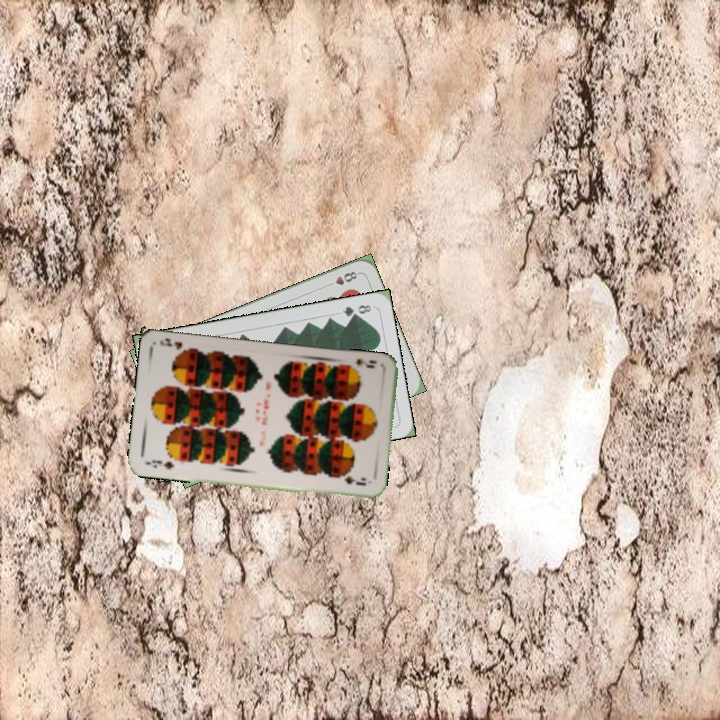G8: (338, 301, 374, 319)
H8: (322, 267, 361, 290)
S9: (342, 355, 379, 373), (148, 456, 176, 472)
